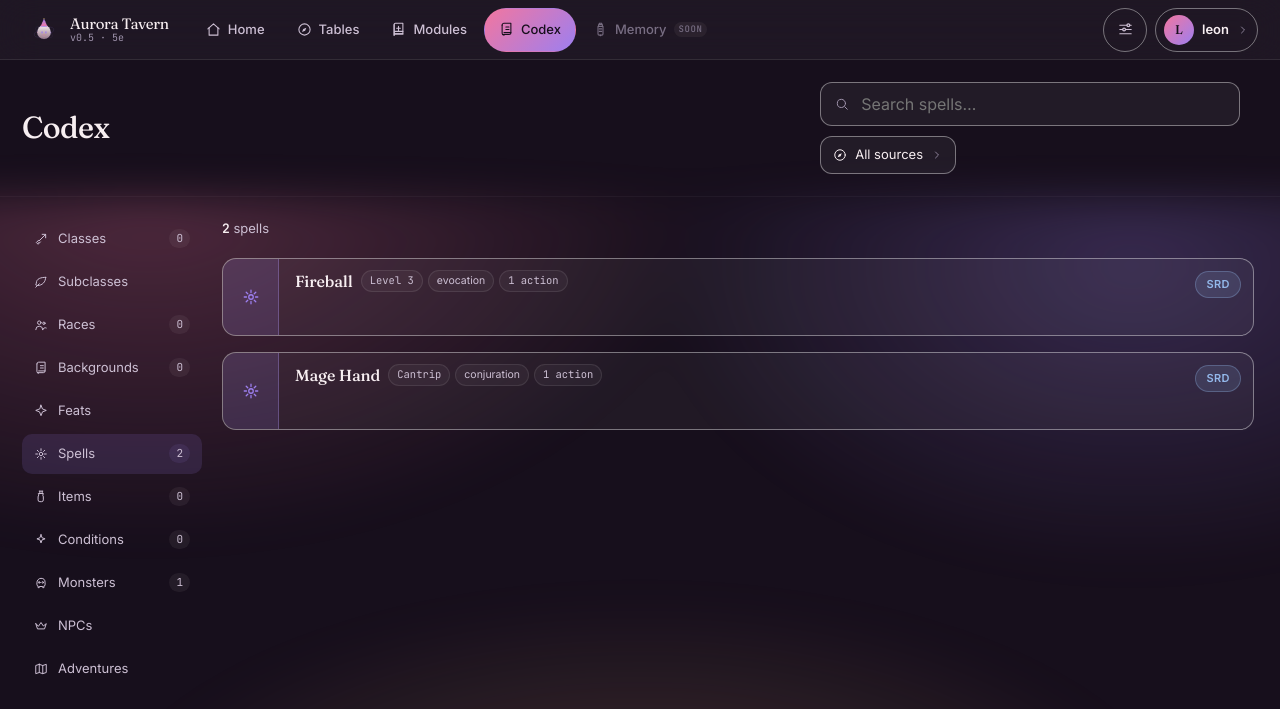
Test: switching tabs clears the previously selected entry
Click the option "Fireball Level 3 evocation 1 action SRD": {"x": 251, "y": 297} [222,258,1254,336]
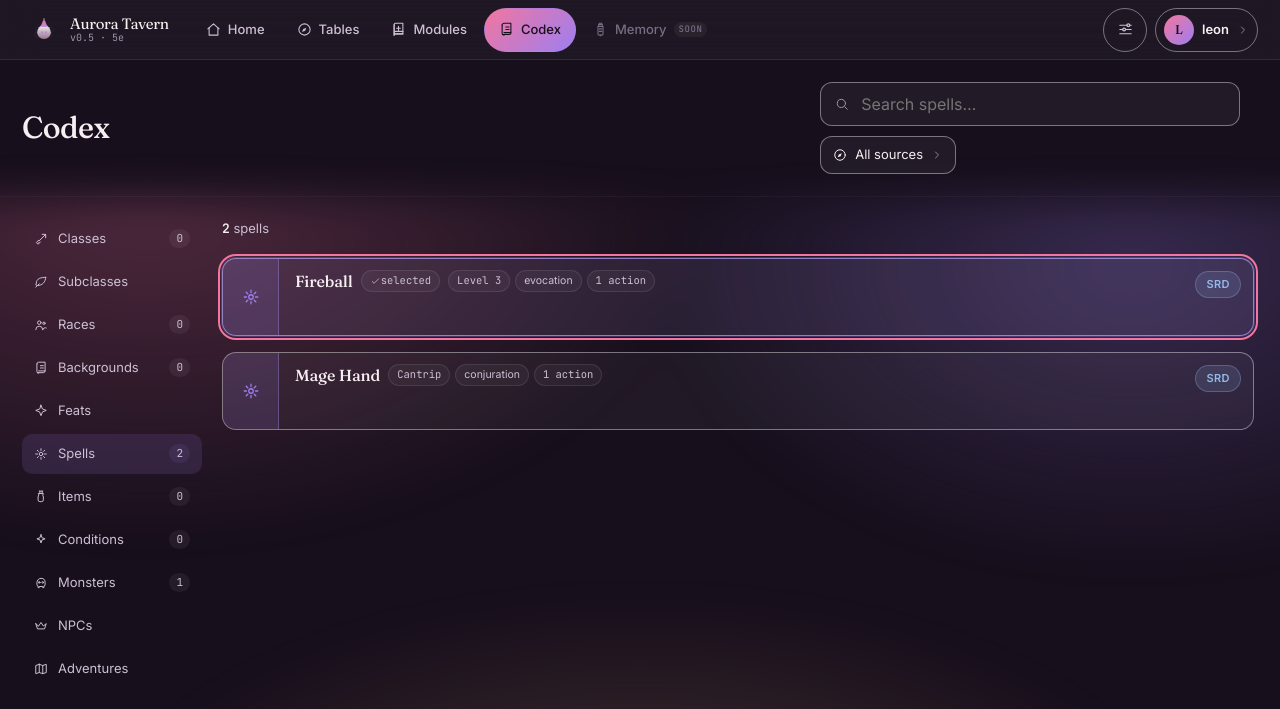
Click the tab "Monsters 1": {"x": 112, "y": 582} [22,562,202,602]
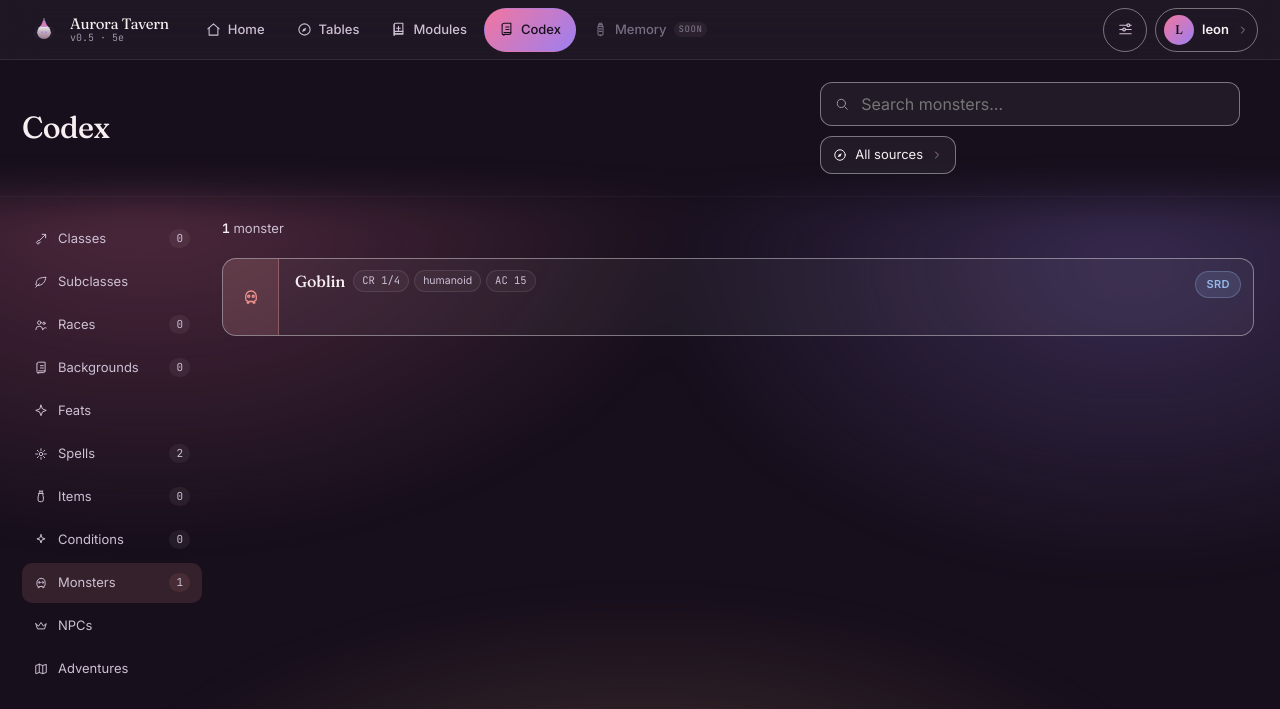
Expected: the option "Goblin CR 1/4 humanoid AC 15 SRD" is shown, [222,258,1254,336]
Expected: the option "Fireball" is gone
